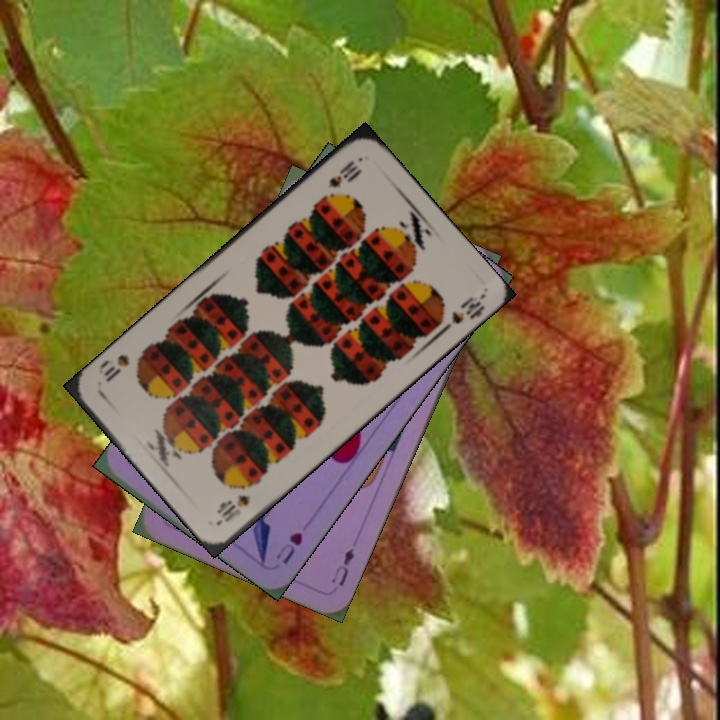EU: (327, 543, 357, 589)
HU: (271, 528, 306, 567)
S10: (213, 490, 253, 526), (324, 156, 363, 191)
